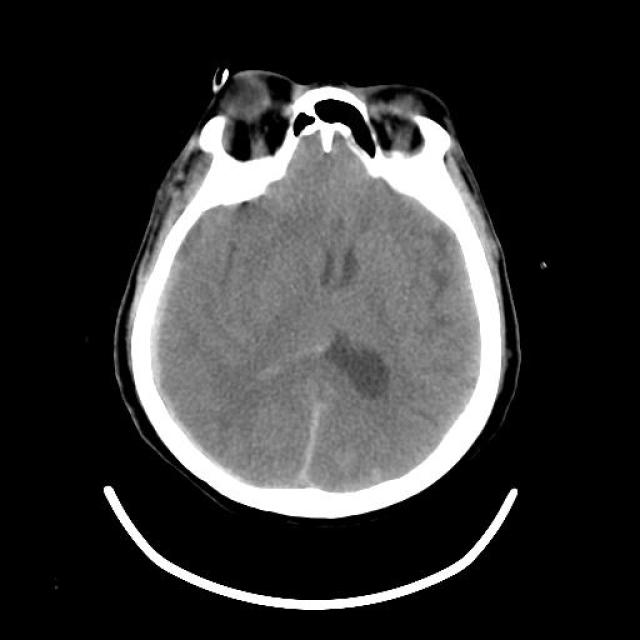Subdural: (115, 265, 256, 486), (276, 398, 350, 510)
